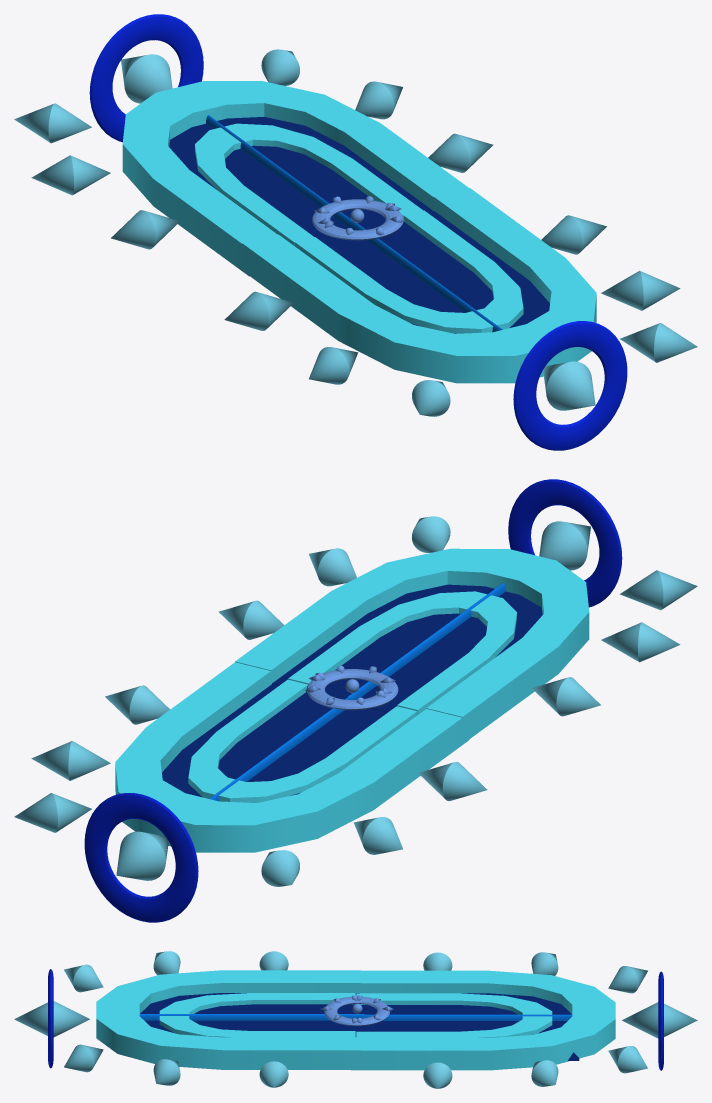
Rendered from portaogelo.fbx.
The picture shows the model from 3 angles, top to bottom: view 1: azimuth 30°, elevation 25°; view 2: azimuth 150°, elevation 25°; view 3: azimuth 270°, elevation 25°; orthographic projection. The views are drawn at different scales.
Parts seen in each view (by area): view 1: portao; view 2: portao; view 3: portao.
Part boxes in pixels (x1,y1,x2,y2): portao: (14, 14, 697, 450); portao: (14, 479, 697, 922); portao: (14, 951, 697, 1088).
Bounding box in the file's own units: 681 × 221 × 1462.
